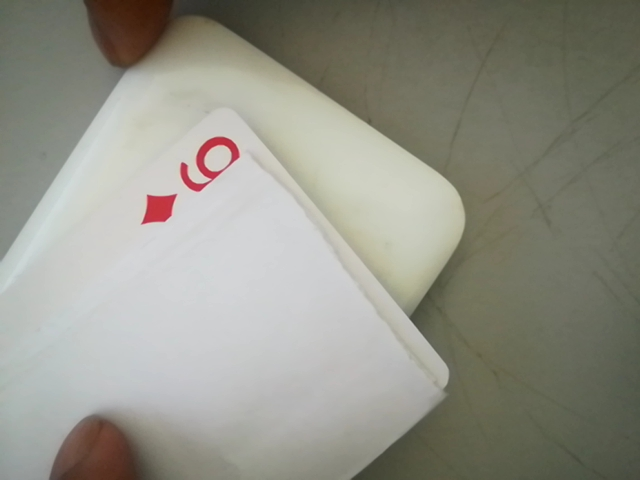fk 9: (127, 125, 253, 229)
